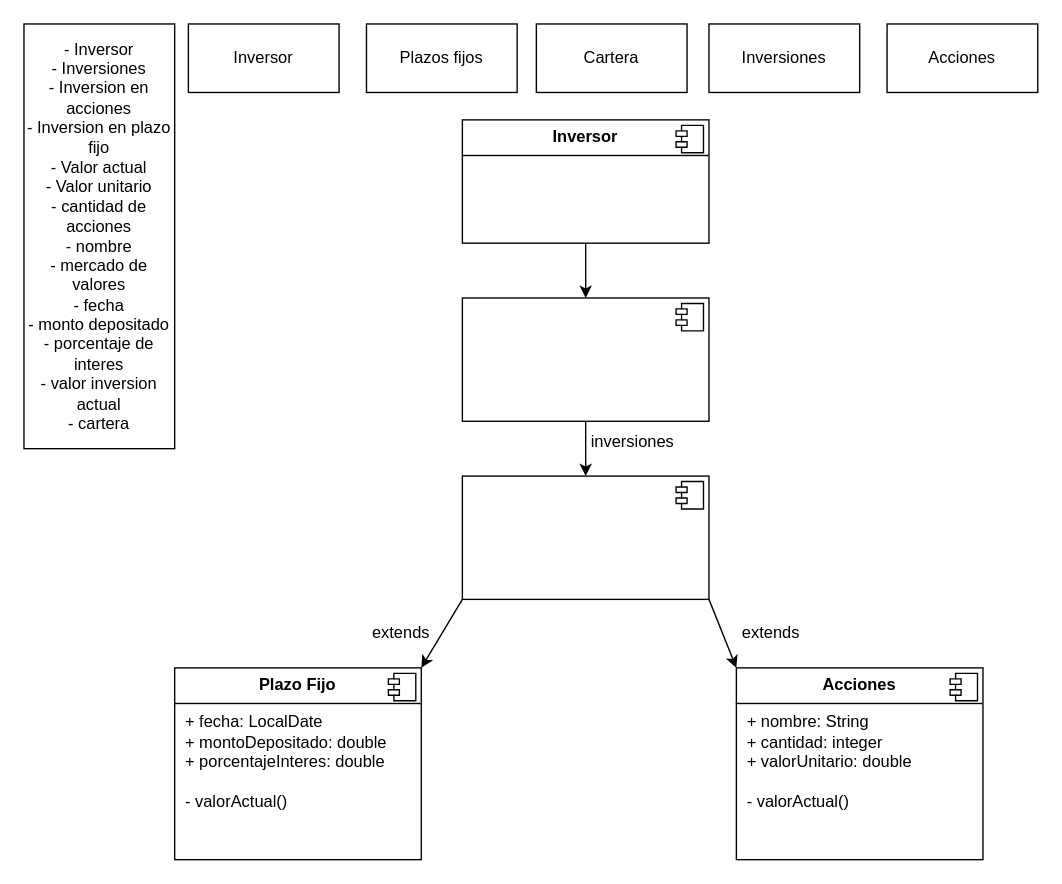
The diagram is 1062 pixels wide and 884 high, and some of its shapes have lost their labels. Here are the shapes that lost their labels. From the top down, the centre of each, then its label:
At pixel 585 359: "Cartera + valorActual: double - agregarInversion() - sacarInversion()".
At pixel 585 537: "Inversion - valorActual()".
